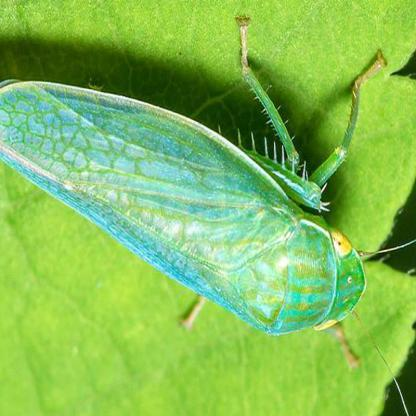green-leafhopper: (7, 83, 359, 337)
